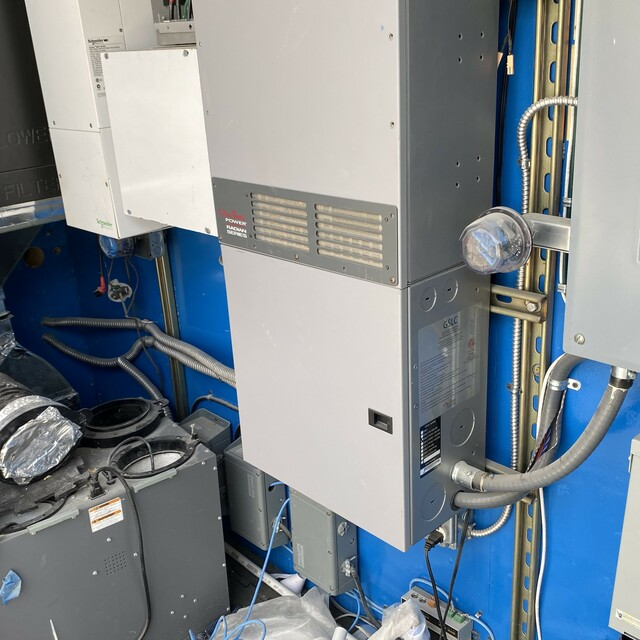inverter: (188, 1, 507, 519)
